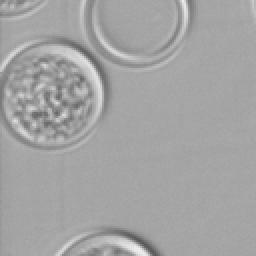picoshell: (0, 38, 106, 152), (80, 0, 190, 70), (54, 230, 154, 254)
